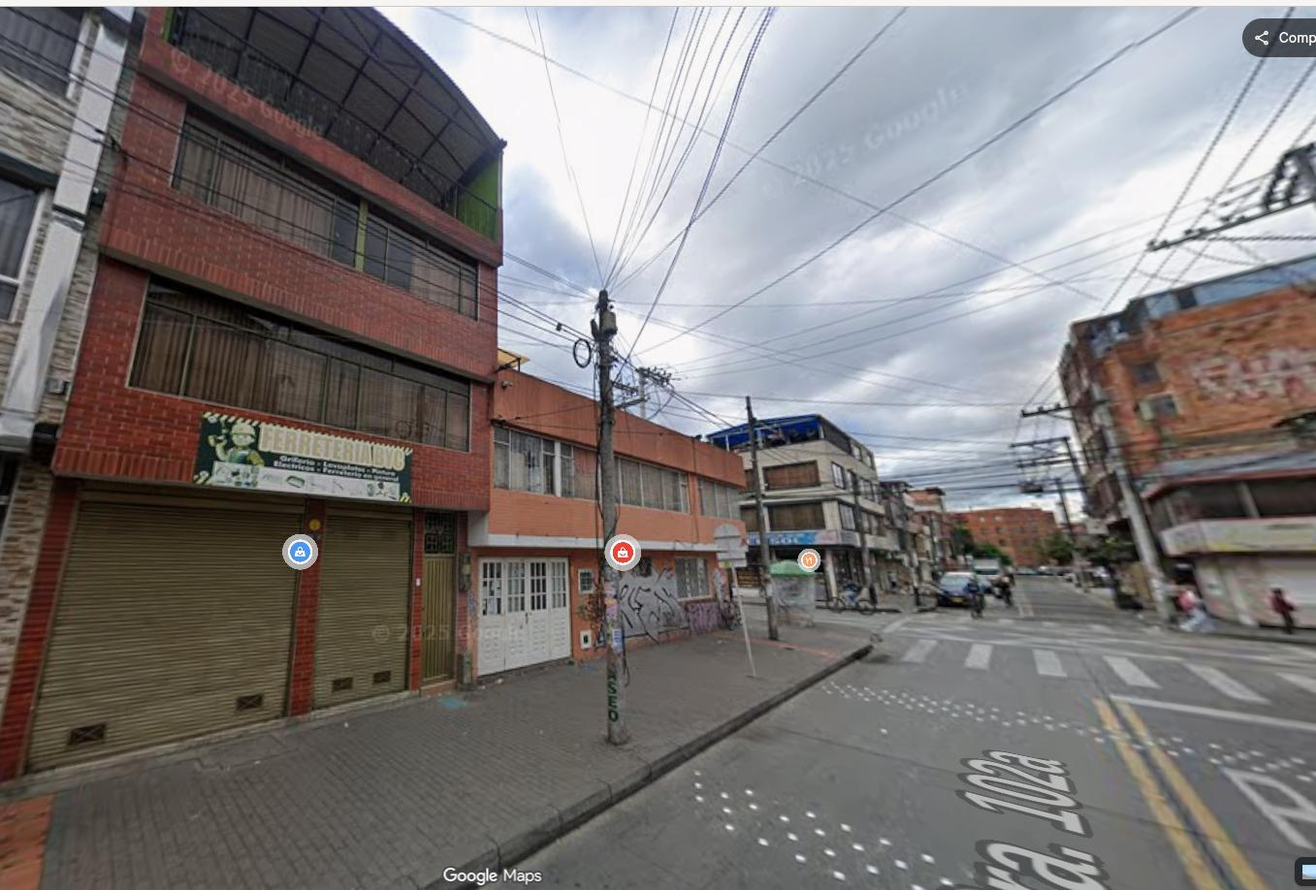casa: (0, 7, 504, 777), (468, 369, 744, 678), (711, 415, 908, 623), (1142, 450, 1315, 632)
poste: (593, 290, 640, 745), (1096, 402, 1172, 623), (746, 397, 777, 640)
